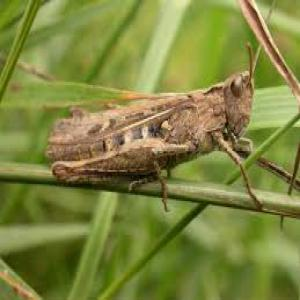locust: (47, 35, 277, 205)
